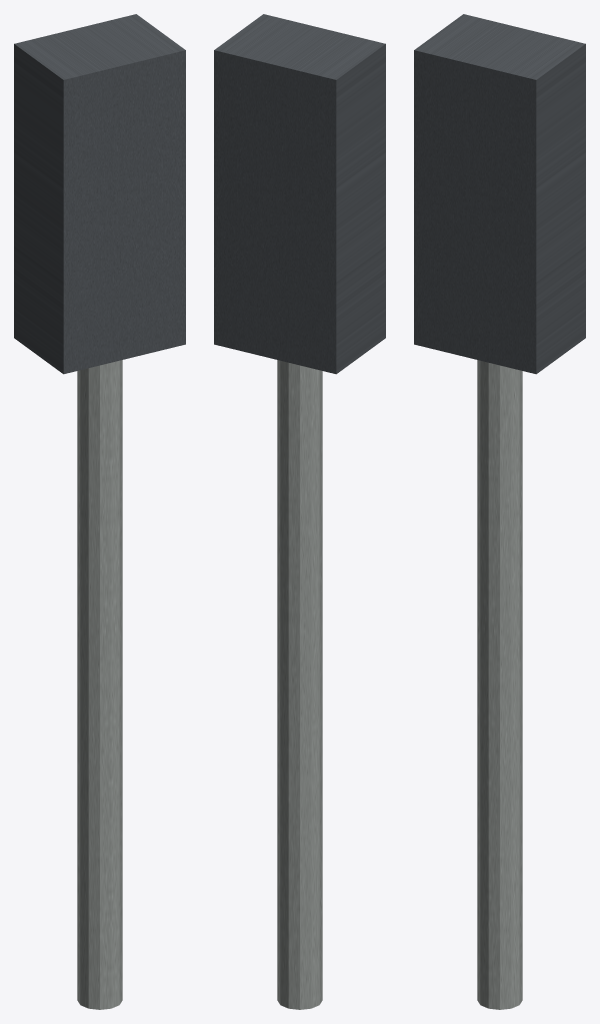
File: traffic_light_lod2.glb
3 views of the same model, side by side, from view 1: azimuth 30°, elevation 25°; view 2: azimuth 150°, elevation 25°; view 3: azimuth 330°, elevation 25° (orthographic).
Visible parts, largest first — view 1: world; view 2: world; view 3: world.
Boxes of the visible parts, x1,y1,x2,y2 form: world: (14,14,185,1009); world: (214,14,385,1009); world: (414,14,585,1009).
Size of the model in its own units: 0.5 by 3.72 by 0.35.
2 materials, 2 textured.
